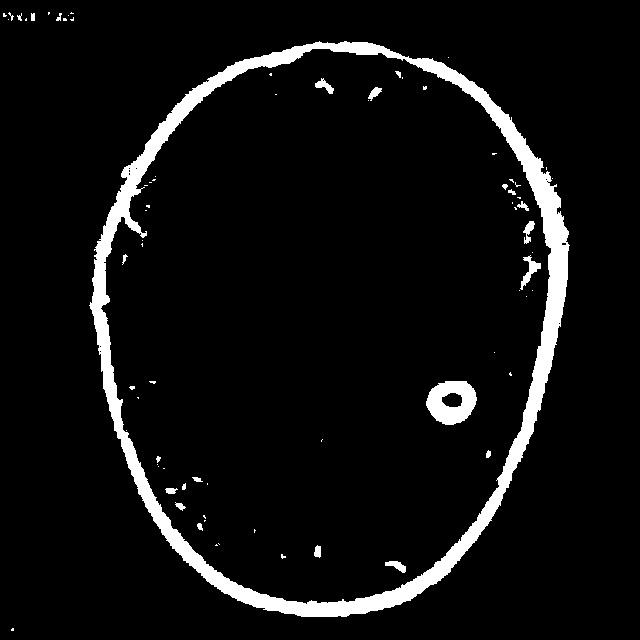Brain-Tumor: (416, 358, 489, 442)
